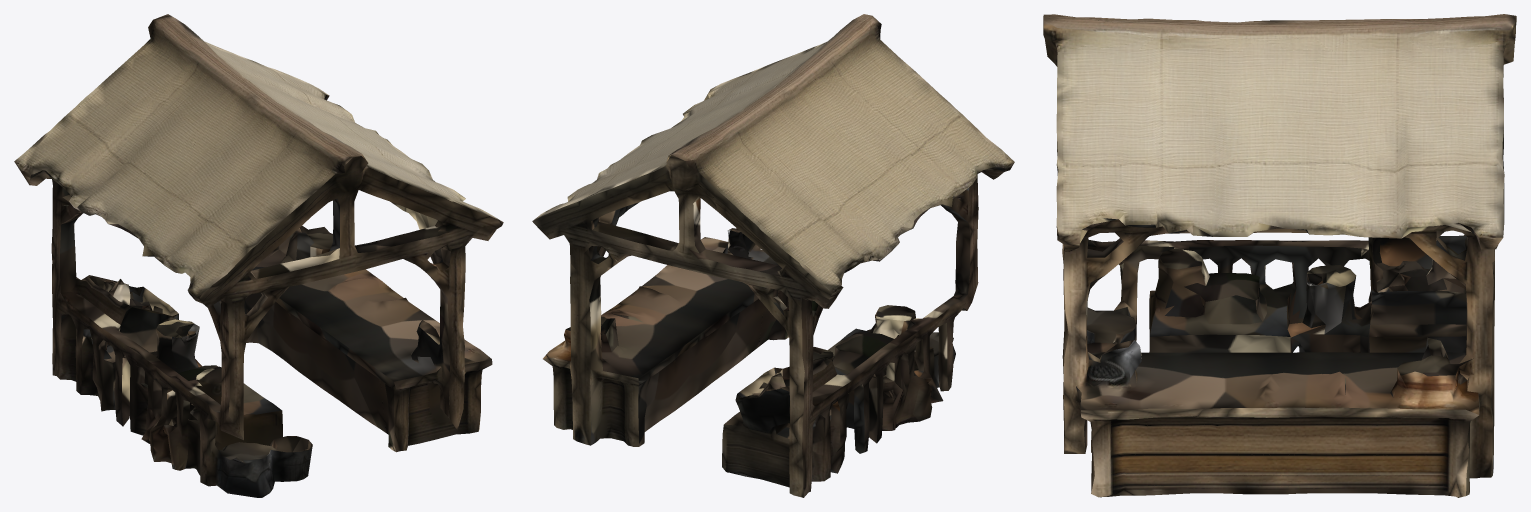
File: market_stall_d.glb
3 views of the same model, side by side, from view 1: azimuth 30°, elevation 25°; view 2: azimuth 150°, elevation 25°; view 3: azimuth 270°, elevation 25° (orthographic). The views are drawn at different scales.
Visible parts, largest first — view 1: MarketStall; view 2: MarketStall; view 3: MarketStall.
Boxes of the visible parts, <box> form: MarketStall: <box>14,14,503,497</box>; MarketStall: <box>532,14,1014,497</box>; MarketStall: <box>1043,14,1516,497</box>.
Bounding box in the file's own units: 2.43 × 2.5 × 2.66.
Materials: 1 (1 with a texture image).
